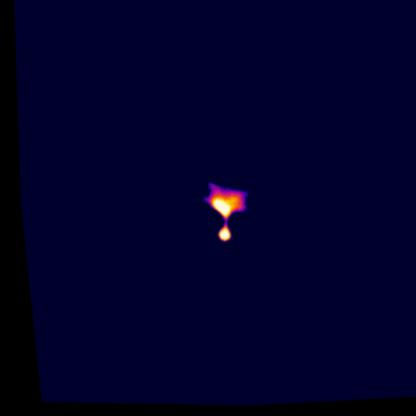drone: (194, 181, 249, 244)
